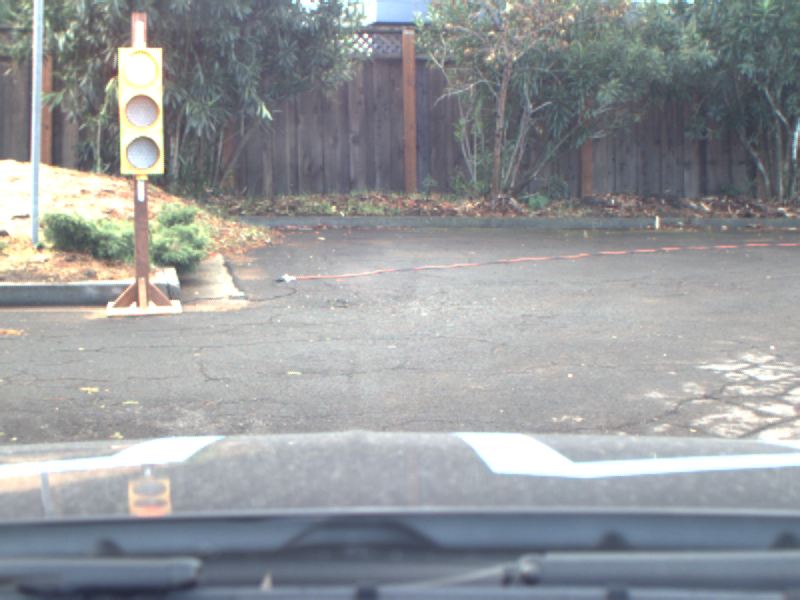Red: (117, 47, 166, 174)
